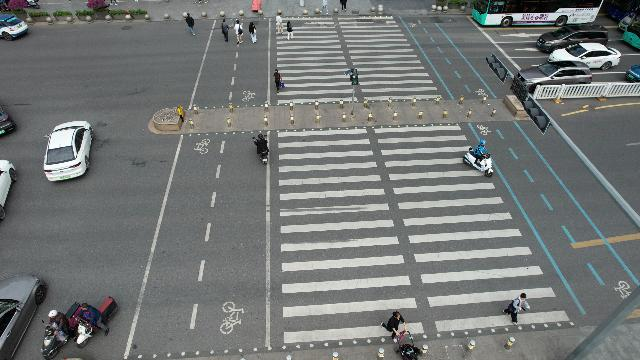non-motor-vehicle: (41, 300, 81, 360), (76, 296, 116, 348), (460, 138, 498, 176), (252, 133, 272, 165), (24, 0, 41, 10)
person: (380, 307, 422, 360), (501, 294, 533, 326), (270, 68, 286, 94), (233, 20, 244, 44), (183, 14, 195, 34), (220, 19, 230, 43), (249, 22, 259, 44), (276, 10, 284, 36), (286, 21, 294, 41), (320, 1, 328, 16), (340, 1, 350, 12)
